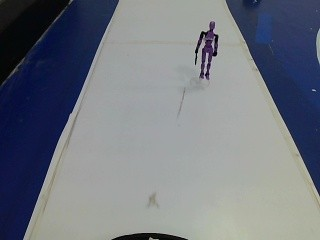pedestrian: (191, 15, 223, 88)
